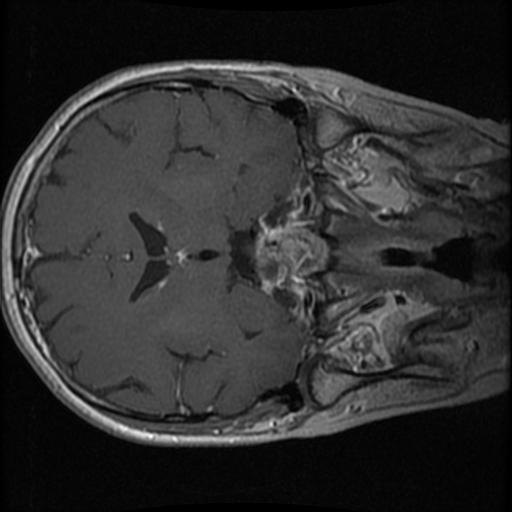pituitary tumour: (252, 226, 329, 285)
